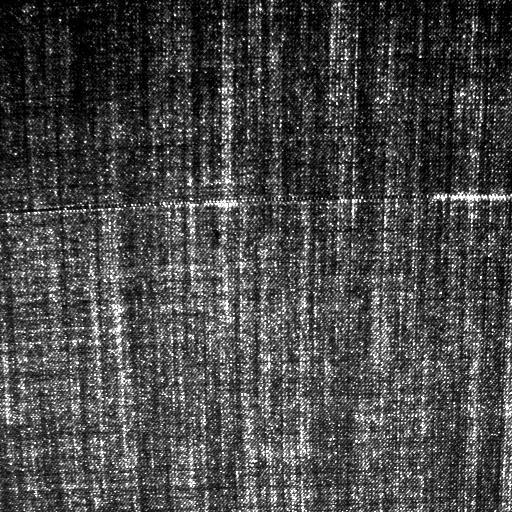fabric_hole: (17, 188, 505, 214)
